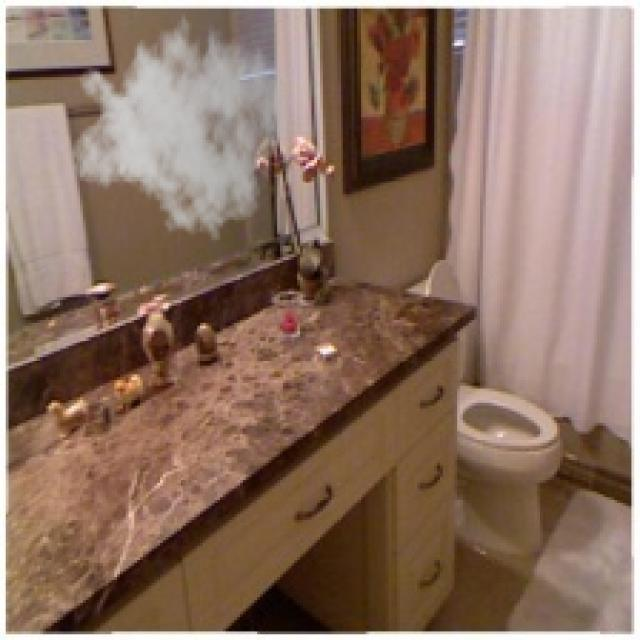Smoke: (71, 0, 292, 243)
